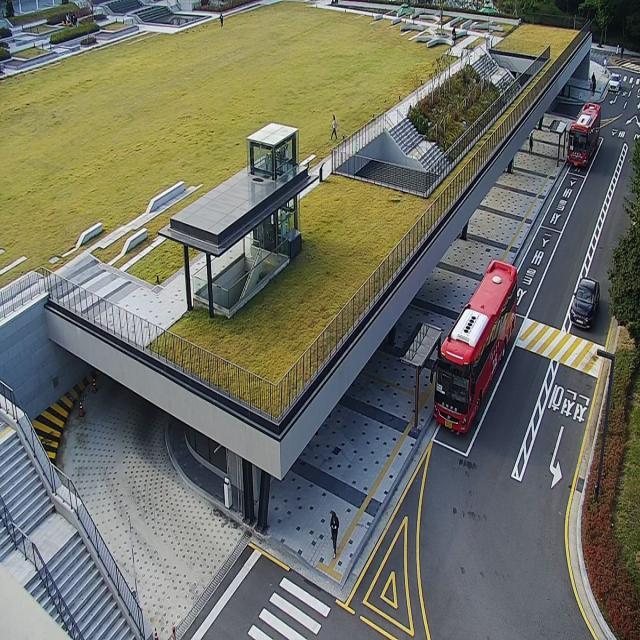queue: (414, 328, 440, 437)
